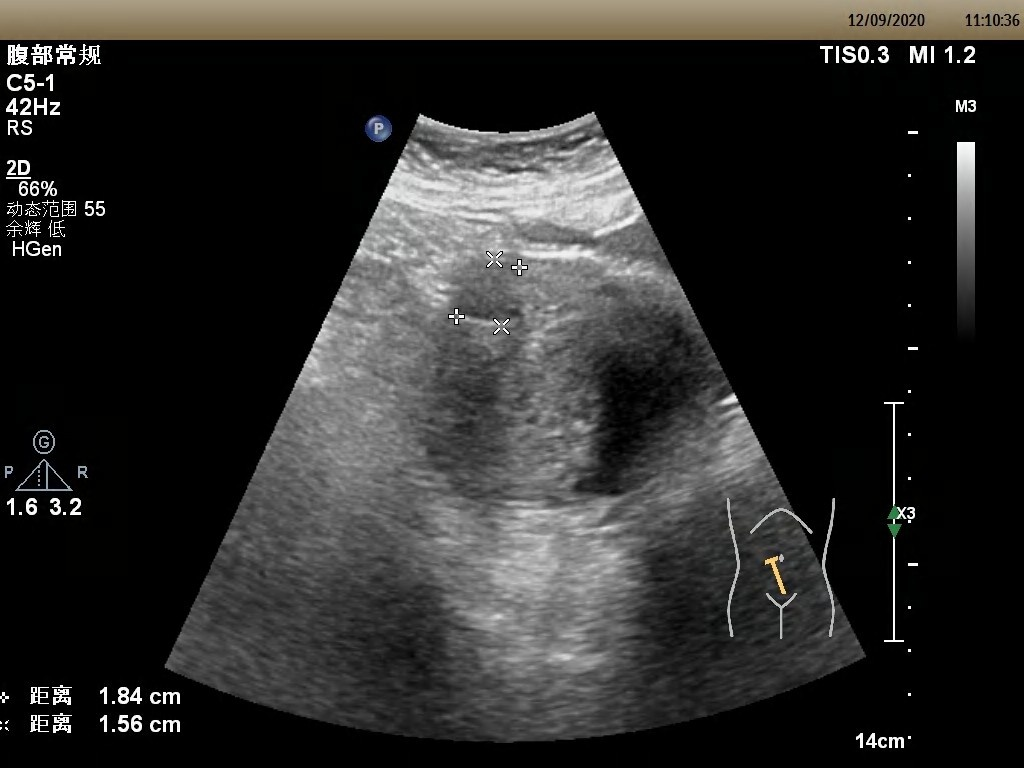肌瘤: (453, 262, 525, 321)
